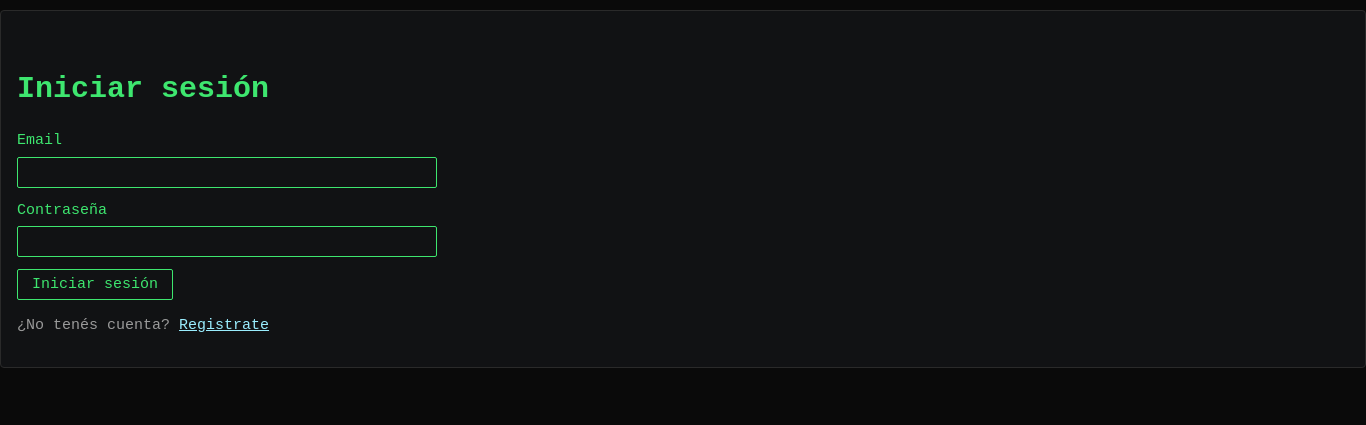
Test case: LoginPage › shows_the_backends_generic_error_message_when_login_fails
Type "ana@example.com" into the field labelled "Email" at (227, 172), box [17,156,437,188]
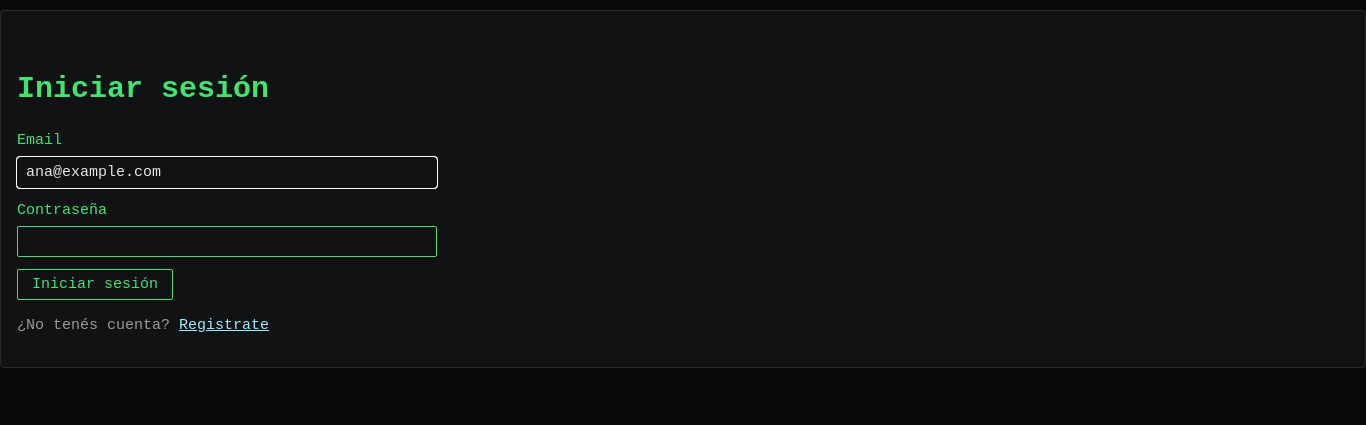
Type "wrong-password" into the password field labelled "Contraseña" at (227, 242), box [17,226,437,257]
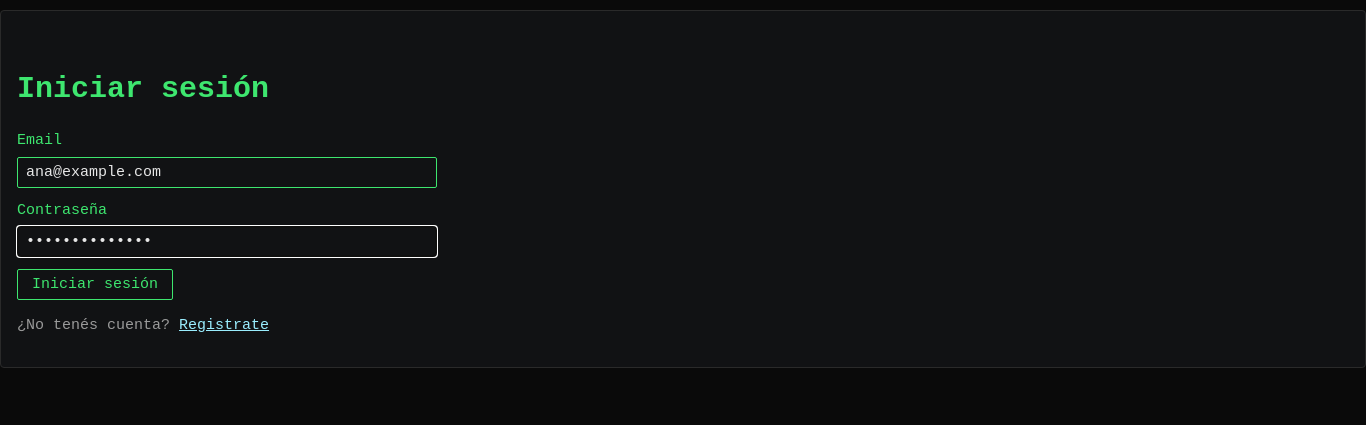
Click the button "Iniciar sesión" at (95, 284), box [17,269,173,300]
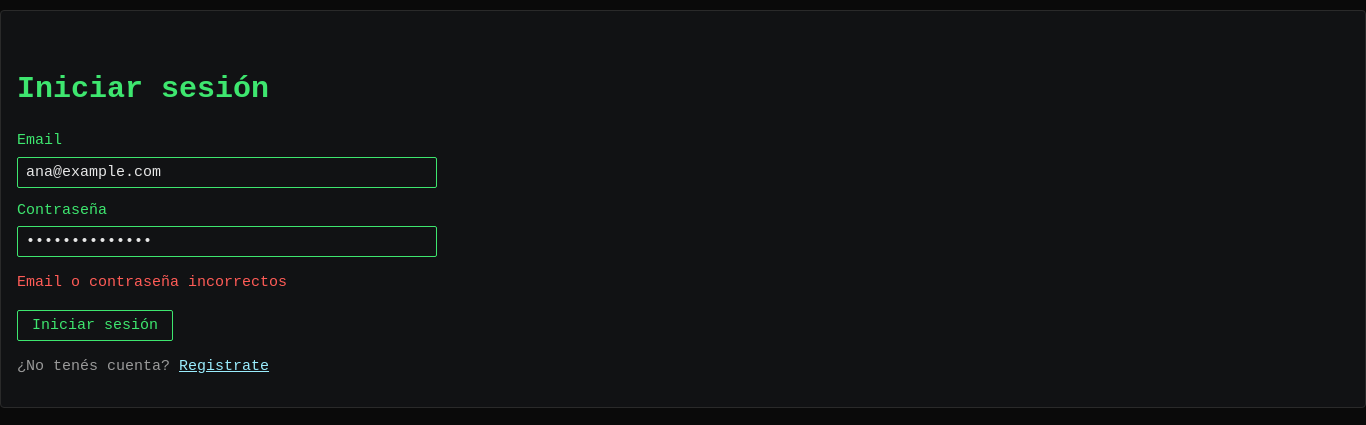
expect the button "Iniciar sesión" is enabled: met, box [17,310,173,340]
expect the message reads "Email o contraseña incorrectos": met, box [17,274,287,291]
